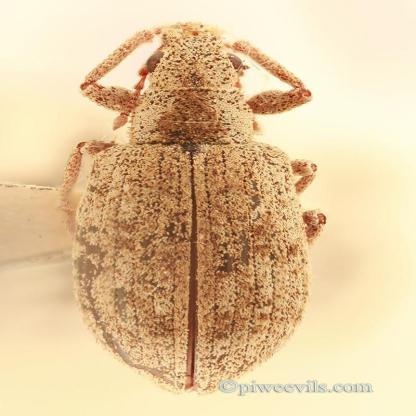rice-bug: (53, 20, 329, 396)
